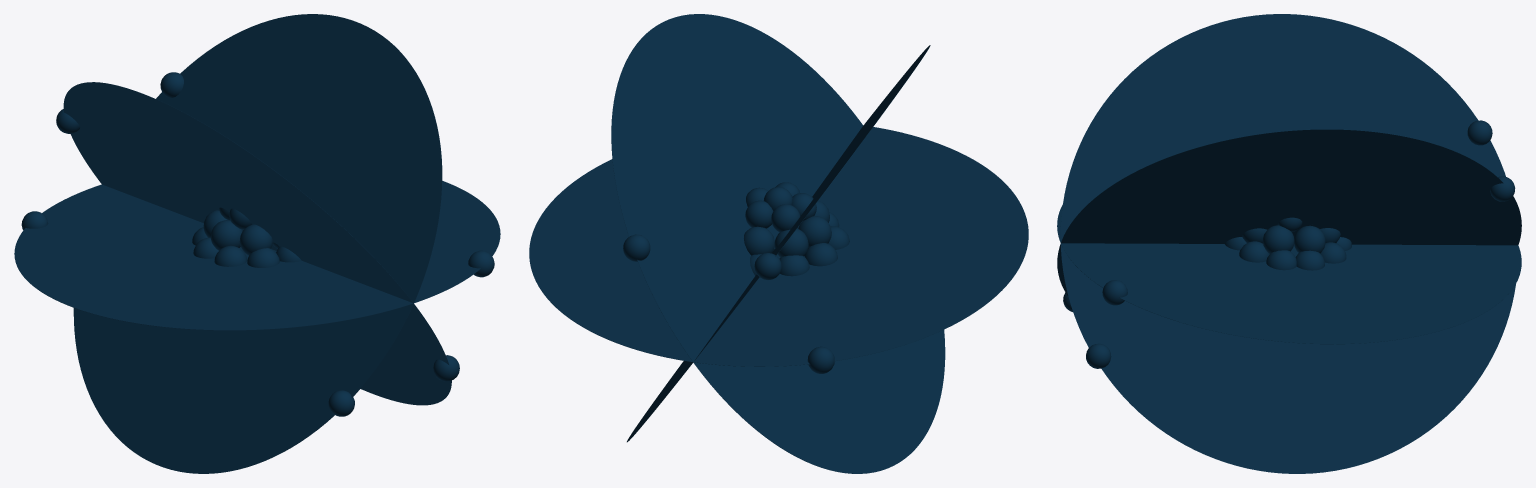
The model's file is uploads_files_4471925_atom-1.fbx.
3 renders of one model, left to right at view 1: azimuth 30°, elevation 25°; view 2: azimuth 150°, elevation 25°; view 3: azimuth 270°, elevation 25°, orthographic. The views are drawn at different scales.
Visible parts, largest first — view 1: Circle003, Circle001, Circle002, Sphere049, Sphere050, Sphere078, Sphere044, Sphere076, Sphere074, Sphere003; view 2: Circle003, Circle001, Circle002, Sphere052, Sphere050, Sphere051, Sphere057, Sphere047, Sphere058, Sphere079, Sphere075, Sphere077 (+1 smaller); view 3: Circle002, Circle003, Circle001, Sphere053, Sphere054, Sphere076, Sphere077, Sphere039, Sphere074, Sphere004, Sphere034.
Part boxes in pixels (x1,y1,x2,y2): Circle003: [73, 14, 442, 473]; Circle001: [14, 181, 500, 330]; Circle002: [63, 82, 451, 405]; Sphere049: [239, 224, 272, 255]; Sphere050: [210, 220, 242, 250]; Sphere078: [328, 390, 354, 416]; Sphere044: [214, 245, 246, 266]; Sphere076: [433, 355, 459, 381]; Sphere074: [468, 250, 494, 277]; Sphere003: [247, 248, 279, 267]; Circle003: [611, 14, 945, 473]; Circle001: [529, 125, 1028, 366]; Circle002: [627, 45, 930, 442]; Sphere052: [744, 226, 774, 255]; Sphere050: [798, 216, 831, 247]; Sphere051: [774, 228, 808, 257]; Sphere057: [745, 200, 773, 228]; Sphere047: [804, 243, 837, 266]; Sphere058: [771, 204, 800, 232]; Sphere079: [623, 234, 650, 261]; Sphere075: [807, 346, 834, 373]; Sphere077: [754, 253, 781, 279]; Circle002: [1060, 14, 1515, 473]; Circle003: [1057, 129, 1521, 295]; Circle001: [1057, 205, 1521, 344]; Sphere053: [1294, 225, 1325, 253]; Sphere054: [1263, 225, 1294, 254]; Sphere076: [1086, 343, 1111, 368]; Sphere077: [1467, 120, 1492, 145]; Sphere039: [1266, 250, 1296, 270]; Sphere074: [1102, 280, 1127, 305]; Sphere004: [1239, 241, 1269, 262]; Sphere034: [1295, 250, 1324, 270].
Size of the model in its own units: 78.84 by 65.4 by 78.56.
